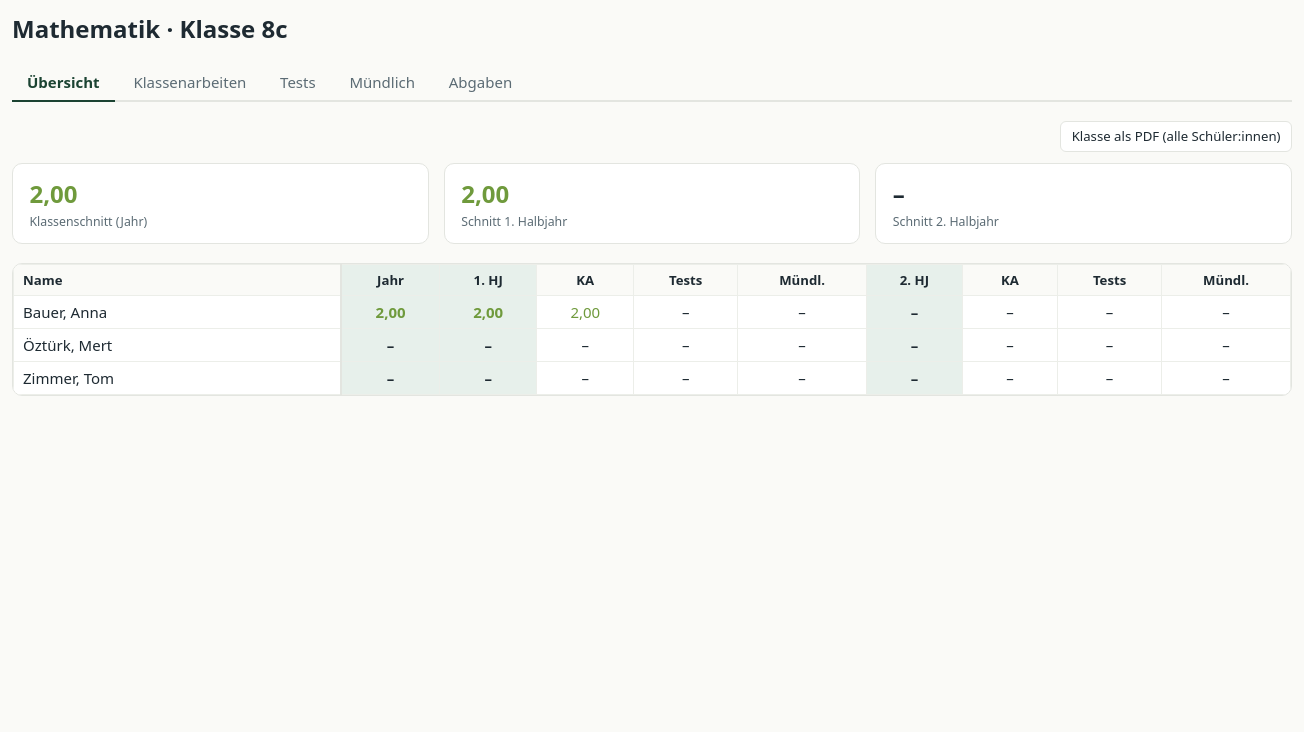
Scenario: GradesView — Noteneingabe › löscht die Note, wenn die Zelle geleert wird
Click the tab "Klassenarbeiten": {"x": 190, "y": 83} [118,64,261,102]
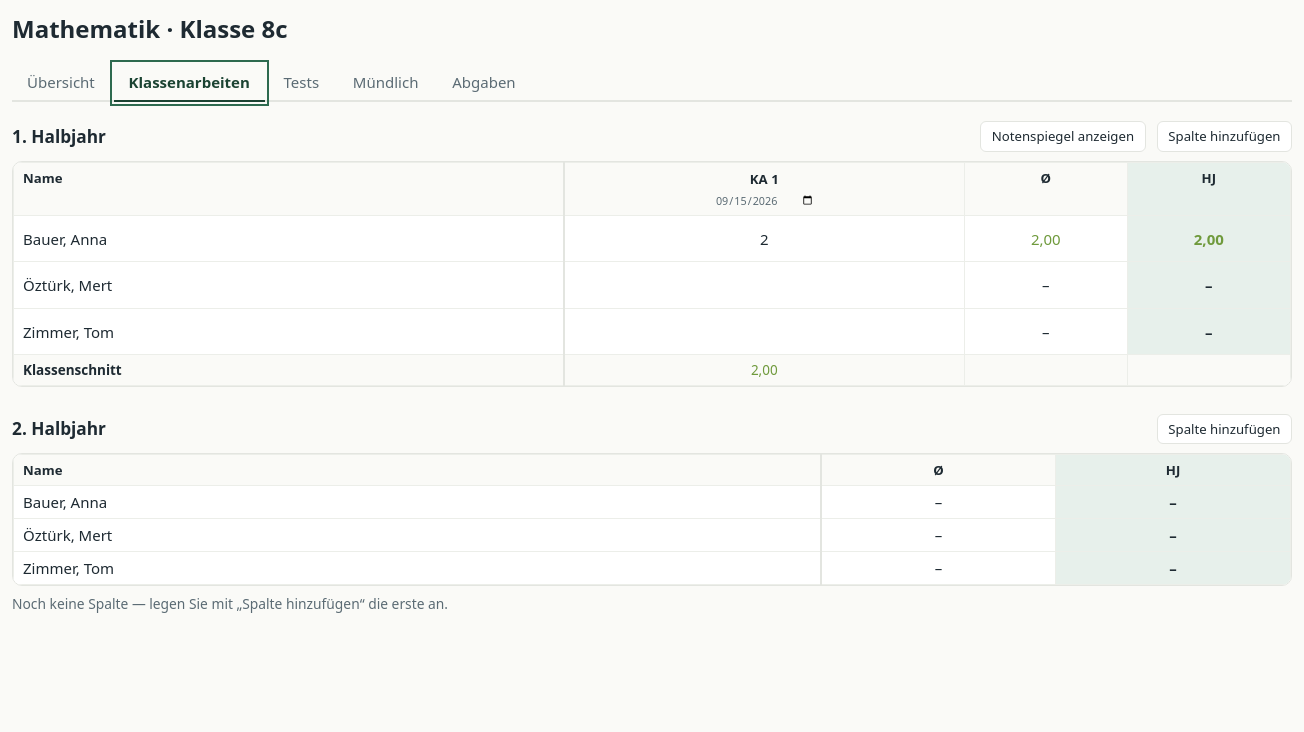
Clear the 2nd field: {"x": 764, "y": 239} [739,222,790,255]
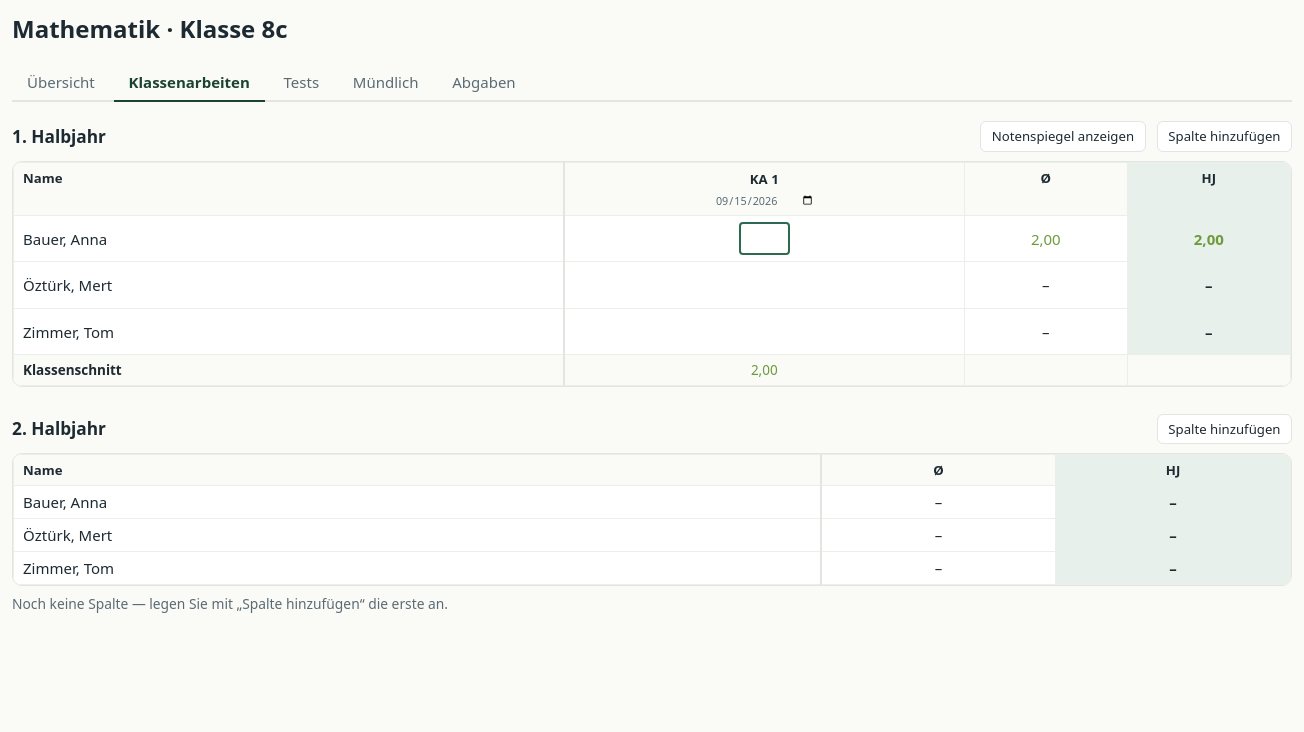
Press Tab
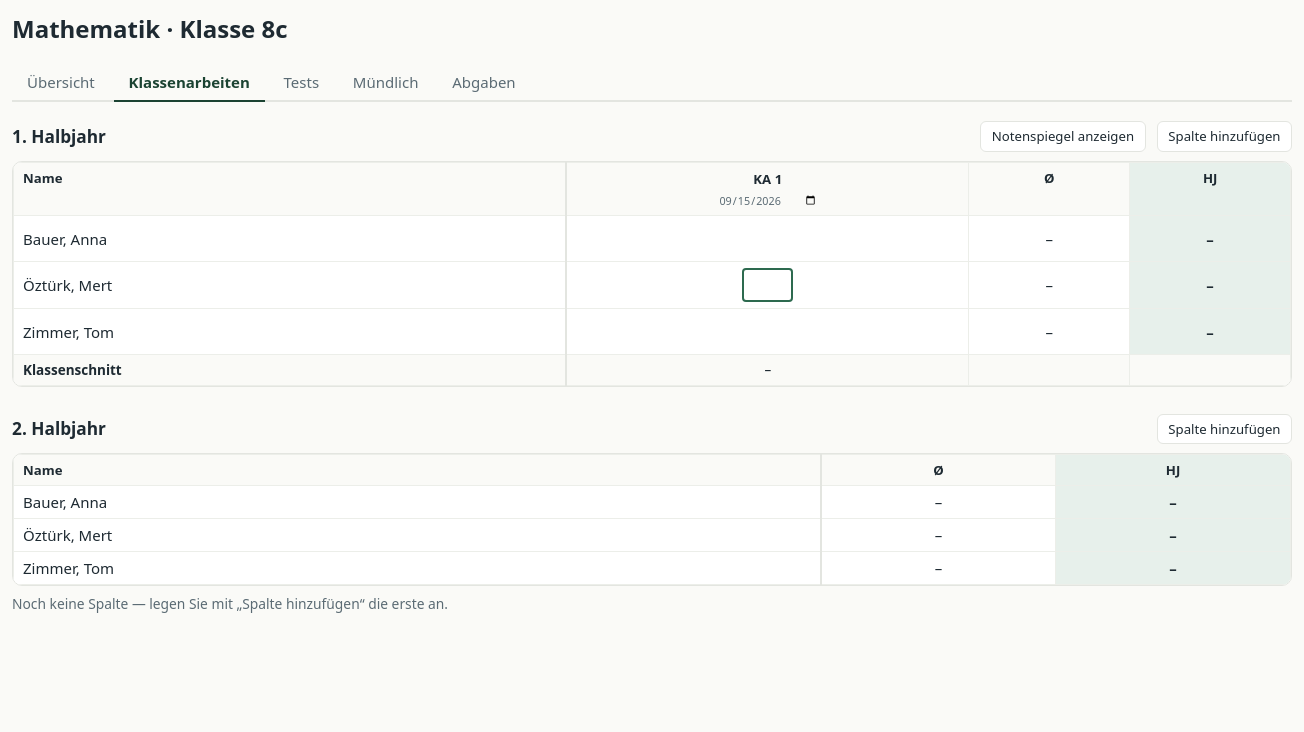
Now the 1st cell "–" is shown, box [969,215,1130,262]
Now the row "Klassenschnitt –" is shown, box [14,355,1290,386]
